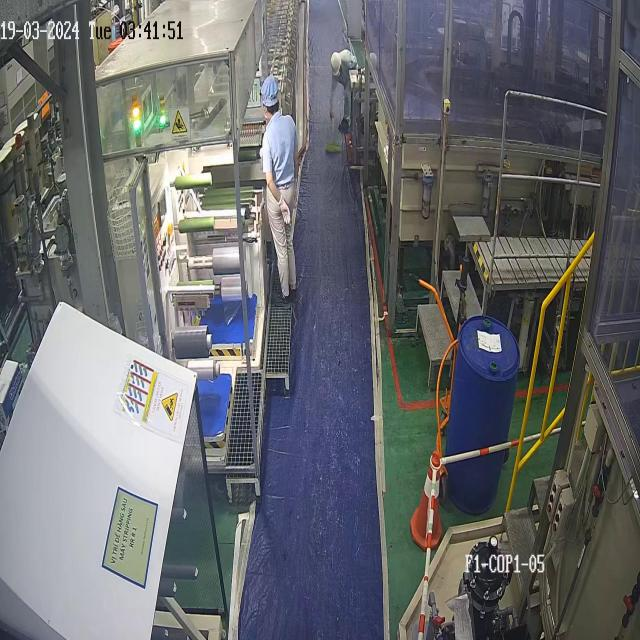Person: (259, 75, 300, 301), (329, 49, 358, 131)
